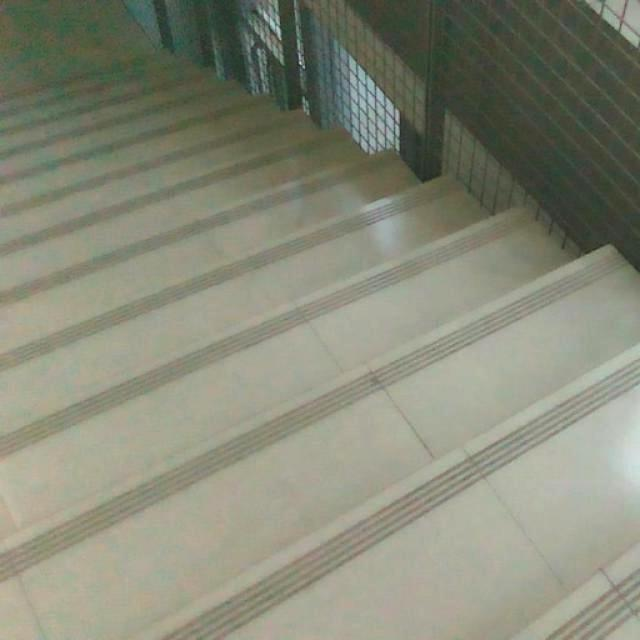stair: (0, 55, 630, 635)
